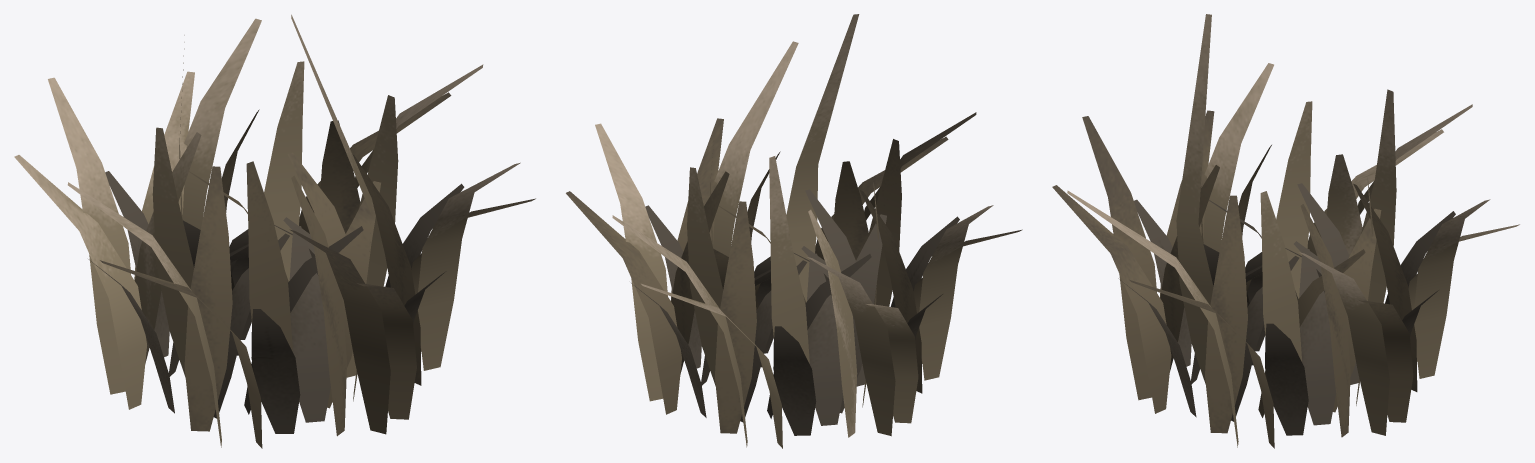
Rendered from grass tuft.fbx.
The picture shows the model from 3 angles, left to right: view 1: azimuth 30°, elevation 25°; view 2: azimuth 150°, elevation 25°; view 3: azimuth 270°, elevation 25°; orthographic projection. The views are drawn at different scales.
Visible parts, largest first — view 1: grass_tuft; view 2: grass_tuft; view 3: grass_tuft.
Boxes of the visible parts, x1,y1,x2,y2 form: grass_tuft: [14, 14, 535, 448]; grass_tuft: [566, 14, 1022, 448]; grass_tuft: [1052, 14, 1519, 448].
Size of the model in its own units: 777 by 690 by 808.
